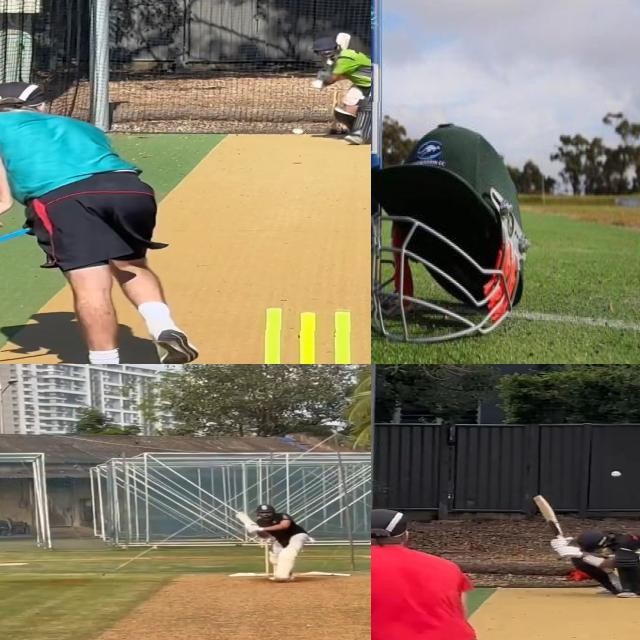Cricket ball: (291, 127, 306, 136), (611, 471, 622, 477)
Stumps: (246, 306, 371, 364)
